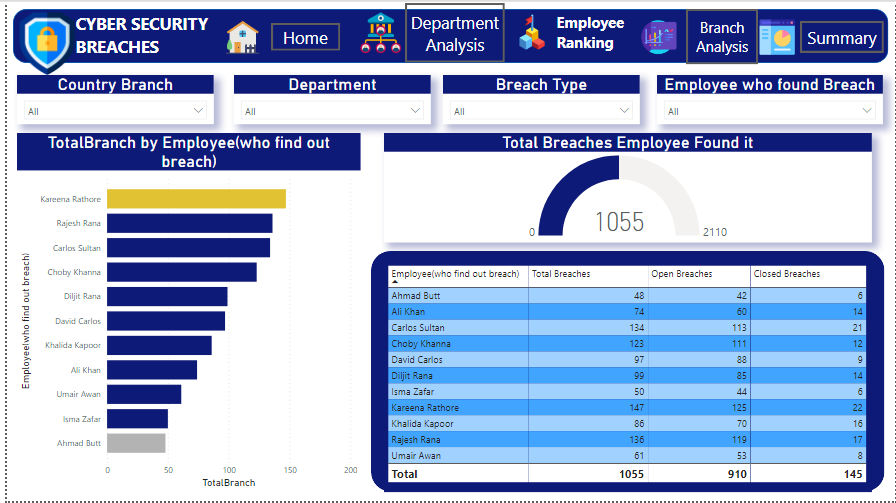

The dashboard page shown, as its layout file describes it:
{"tool":"powerbi","page":{"name":"Employee Ranking","canvas":[1280,720],"ordinal":1},"visuals":[{"type":"shape","box":[525.5,359.6,740.6,347.3],"z":0},{"type":"tableEx","fields":{"Values":["Cyber Security Breaches.Employee(who find out breach)","Cyber Security Breaches.Total Breaches","Cyber Security Breaches.Open Breaches","Cyber Security Breaches.Closed Breaches"]},"box":[544,374.9,703.8,331.9],"z":1000},{"type":"shape","box":[9.2,10.8,1263.1,78.4],"z":2000},{"type":"slicer","title":"Country Branch","fields":{"Values":["Cyber Security Breaches.CountryBranch"]},"box":[13.8,106,284.3,70.7],"z":3000},{"type":"slicer","title":"Department","fields":{"Values":["Cyber Security Breaches.Department"]},"box":[327.3,106,284.3,70.7],"z":4000},{"type":"slicer","title":"Breach Type","fields":{"Values":["Cyber Security Breaches.Type_of_Breach"]},"box":[628.5,106,284.3,70.7],"z":5000},{"type":"slicer","title":"Employee who found Breach","fields":{"Values":["Cyber Security Breaches.Employee(who find out breach)"]},"box":[937.3,106,325.8,70.7],"z":6000},{"type":"gauge","title":"Total Breaches Employee Found it","fields":{"Y":["Cyber Security Breaches.Total Breaches"]},"box":[544,189,703.8,158.3],"z":7000},{"type":"image","box":[0,10.8,115.2,99.9],"z":8000},{"type":"textbox","box":[93.7,10.8,233.6,89.1],"z":9000},{"type":"image","box":[298.1,20,83,61.5],"z":10000},{"type":"image","box":[720.7,12.3,75.3,61.5],"z":11000},{"type":"image","box":[895.8,20,89.1,61.5],"z":12000},{"type":"image","box":[1067.9,20,86.1,61.5],"z":13000},{"type":"barChart","fields":{"Category":["Cyber Security Breaches.Employee(who find out breach)"],"Y":["Cyber Security Breaches.TotalBranch"]},"box":[13.8,189,496.3,517.8],"z":14000},{"type":"actionButton","box":[381.1,30.7,99.9,40],"z":15000},{"type":"actionButton","box":[980.4,10.8,104.5,79.9],"z":17000},{"type":"actionButton","box":[1144.8,27.7,121.4,46.1],"z":18000},{"type":"actionButton","box":[574.7,1.5,144.4,86.1],"z":18001},{"type":"image","box":[497.9,6.1,83,76.8],"z":18002},{"type":"textbox","box":[788.3,10.8,124.5,86.1],"z":18003}]}

Visuals, with their boxes in screenshot pixels (x1, y1, x2, y2), scaled from the page's 1280x720 canvas onto the 896x503 screenshot:
shape: locate(368, 251, 886, 494)
tableEx - Cyber Security Breaches.Employee(who find out breach) x Cyber Security Breaches.Total Breaches: locate(381, 262, 873, 494)
shape: locate(6, 8, 891, 62)
"Country Branch" slicer: locate(10, 74, 209, 123)
"Department" slicer: locate(229, 74, 428, 123)
"Breach Type" slicer: locate(440, 74, 639, 123)
"Employee who found Breach" slicer: locate(656, 74, 884, 123)
"Total Breaches Employee Found it" gauge: locate(381, 132, 873, 243)
image: locate(0, 8, 81, 77)
textbox: locate(66, 8, 229, 70)
image: locate(209, 14, 267, 57)
image: locate(504, 9, 557, 52)
image: locate(627, 14, 689, 57)
image: locate(748, 14, 808, 57)
barChart - Cyber Security Breaches.Employee(who find out breach) x Cyber Security Breaches.TotalBranch: locate(10, 132, 357, 494)
actionButton: locate(267, 21, 337, 49)
actionButton: locate(686, 8, 759, 63)
actionButton: locate(801, 19, 886, 52)
actionButton: locate(402, 1, 503, 61)
image: locate(349, 4, 407, 58)
textbox: locate(552, 8, 639, 68)
